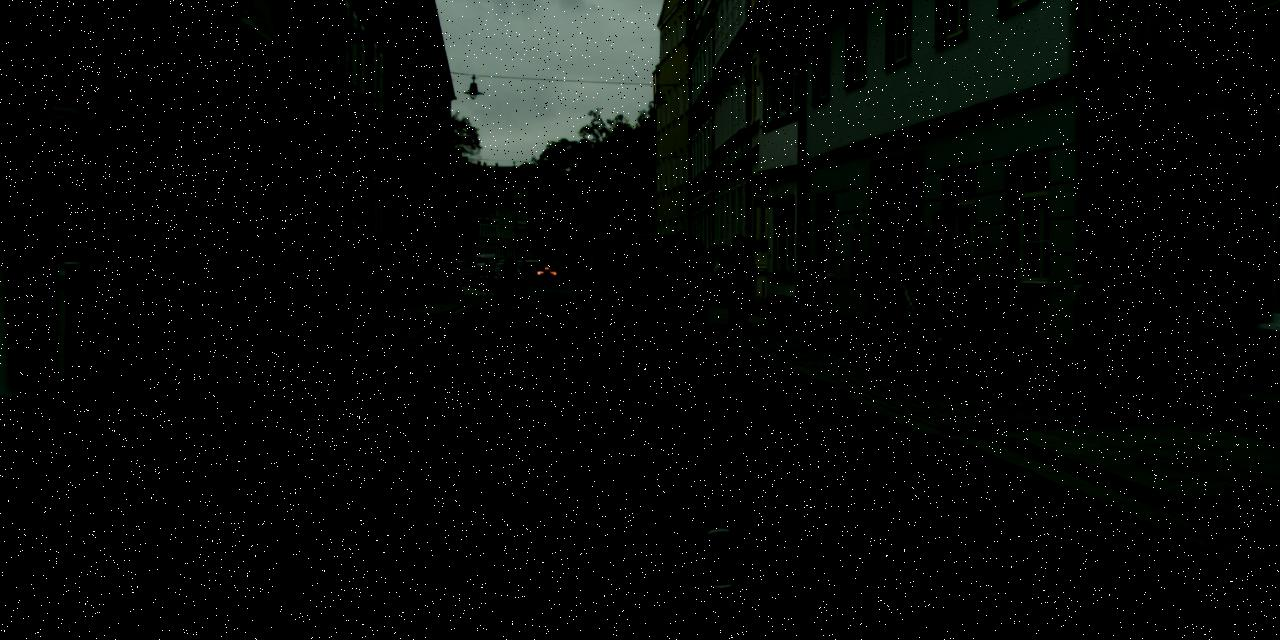ped: (908, 211, 974, 373), (859, 228, 918, 374), (718, 235, 759, 338), (712, 256, 732, 306), (502, 256, 516, 289), (549, 258, 562, 286), (592, 258, 603, 286)
